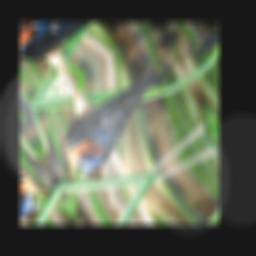Swallow: (51, 50, 201, 184)
